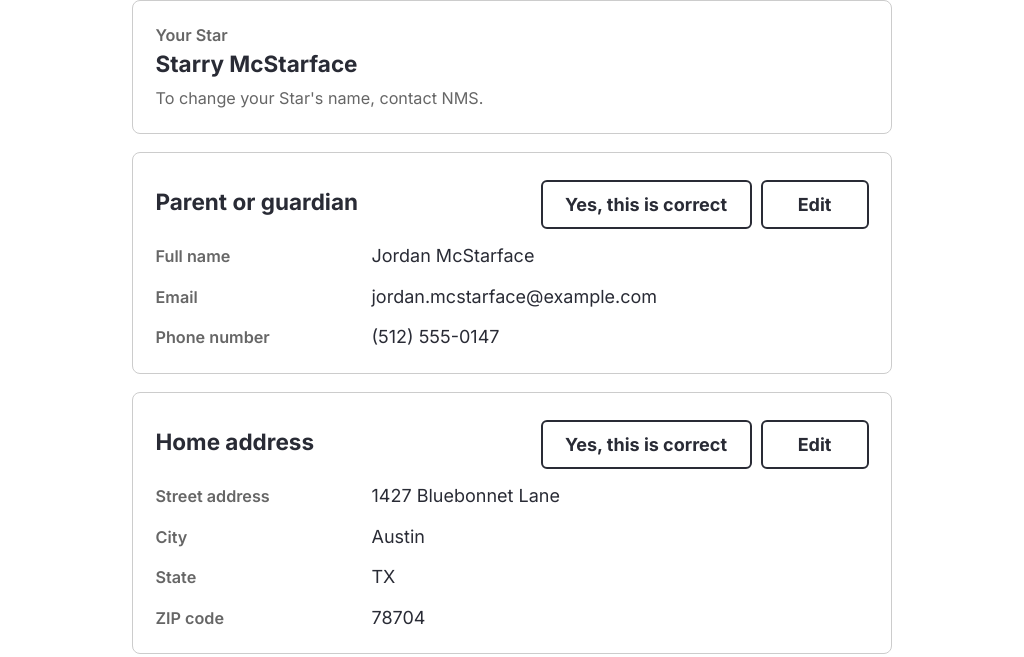
FamilyTab › lets only one card be edited at a time
The image size is (1024, 657).
Click the button with aria-label "Edit home address": (814, 444) [760, 420, 868, 468]
(page scrolled)
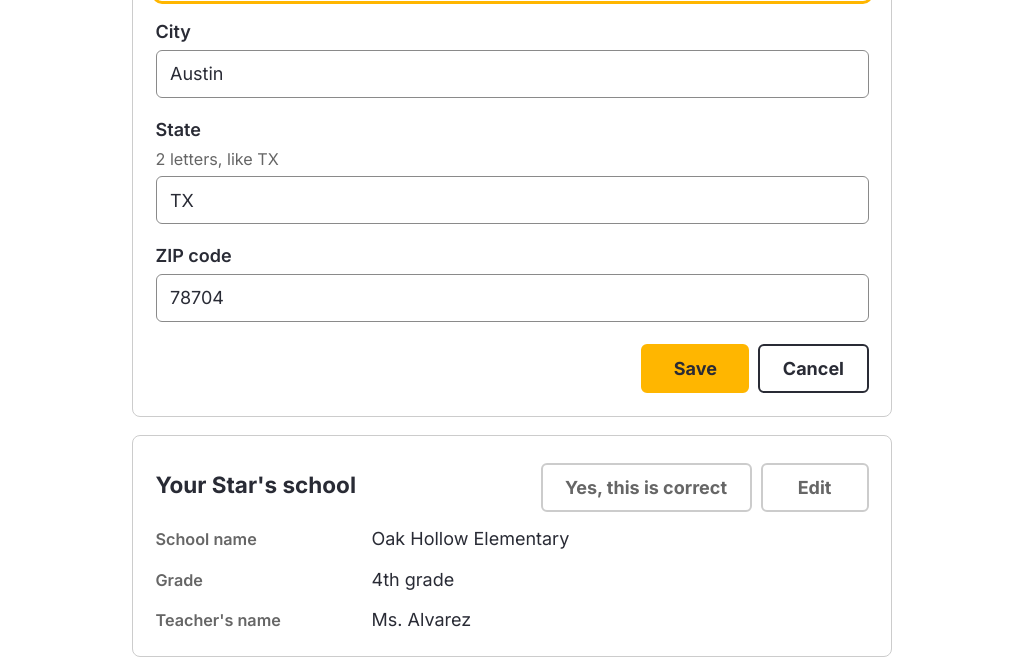
Expected: the button with aria-label "Edit your Star's school" is disabled, [760, 463, 868, 512]
